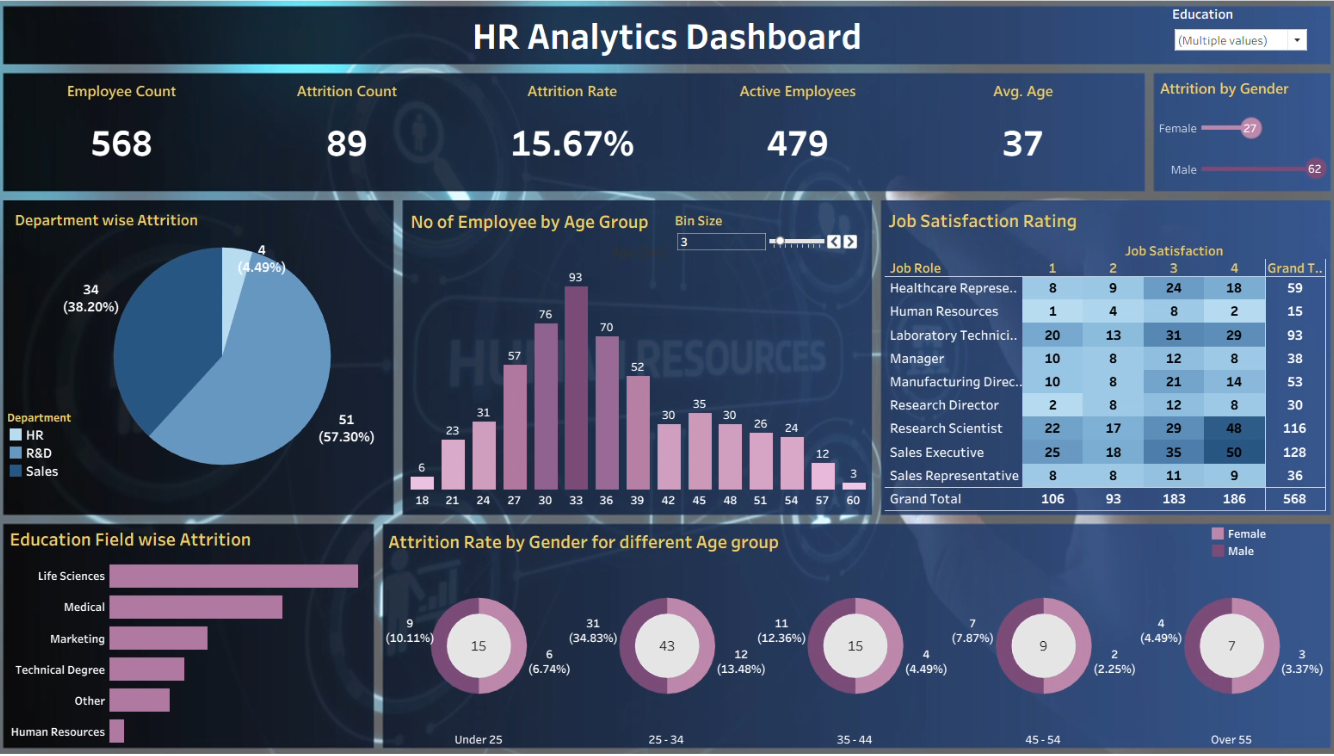

What the dashboard file says about the page in this screenshot:
{"tool":"tableau","page":{"name":"HR Analytics Dashbaord","canvas":[1000,1000],"units":"permille","ordinal":0},"visuals":[{"type":"image","param":"B:/Data Analysis/Tableau/Png and logos/Backgrounds/HR background.pptx (1).png","box":[5.1,8.9,989.9,982.2]},{"type":"filter","title":"KPI","param":"[federated.0okoeoi0dvwzbu14iphc40ltm6dc].[none:Education:nk]","box":[871.5,18.9,101.3,207.8]},{"type":"text","box":[13.3,22.2,973.4,71.1]},{"type":"worksheet","title":"Attrition by Gender","mark":"Automatic","rows":["Gender"],"cols":["Calculation_1243837952652808192","Calculation_1243837952652808192"],"box":[860.1,108.9,129.1,147.8]},{"type":"worksheet","title":"KPI","mark":"Automatic","box":[15.8,115.6,829.1,133.3]},{"type":"worksheet","title":"Job Satisfaction Rating","mark":"Square","rows":["Job Role"],"cols":["Job Satisfaction"],"box":[660.1,276.7,324.7,395.6]},{"type":"worksheet","title":"Pie","mark":"Pie","box":[17.7,277.8,310.1,345.6]},{"type":"worksheet","title":"No of Employee by Age Group","mark":"Automatic","rows":["Employee Count"],"cols":["Age (bin)"],"box":[308.9,277.8,339.9,391.1]},{"type":"parameter","param":"[Parameters].[Parameter 1]","box":[505.7,285.6,136.1,65.6]},{"type":"legend","title":"Pie","param":"[federated.0okoeoi0dvwzbu14iphc40ltm6dc].[none:Department:nk]","box":[14.6,541.1,157,125.6]},{"type":"worksheet","title":"Education Field wise Attrition","mark":"Automatic","rows":["Education Field"],"cols":["Calculation_1243837952652808192"],"box":[13.9,687.8,269.6,288.9]},{"type":"legend","title":"Attrition Rate by Gender for different Age group","param":"[federated.0okoeoi0dvwzbu14iphc40ltm6dc].[none:Gender:nk]","box":[898.7,690,88.6,71.1]},{"type":"worksheet","title":"Attrition Rate by Gender for different Age group","mark":"Pie","rows":["Calculation_1243837952685797380","Calculation_1243837952685797380"],"cols":["CF_age band"],"box":[292.4,691.1,692.4,286.7]}]}

Visuals, with their boxes on the dashboard's canvas, which has no fixed pixel size, in thousandths of its width and height (x1, y1, x2, y2). These are canvas units, not pixel positions in the 1334x756 screenshot, which may show the page scaled, cropped or inside an application window:
image: bbox=[5, 9, 995, 991]
"KPI" filter: bbox=[872, 19, 973, 227]
text: bbox=[13, 22, 987, 93]
"Attrition by Gender" worksheet: bbox=[860, 109, 989, 257]
"KPI" worksheet: bbox=[16, 116, 845, 249]
"Job Satisfaction Rating" worksheet (Square marks): bbox=[660, 277, 985, 672]
"Pie" worksheet (Pie marks): bbox=[18, 278, 328, 623]
"No of Employee by Age Group" worksheet: bbox=[309, 278, 649, 669]
parameter: bbox=[506, 286, 642, 351]
"Pie" legend: bbox=[15, 541, 172, 667]
"Education Field wise Attrition" worksheet: bbox=[14, 688, 284, 977]
"Attrition Rate by Gender for different Age group" legend: bbox=[899, 690, 987, 761]
"Attrition Rate by Gender for different Age group" worksheet (Pie marks): bbox=[292, 691, 985, 978]
